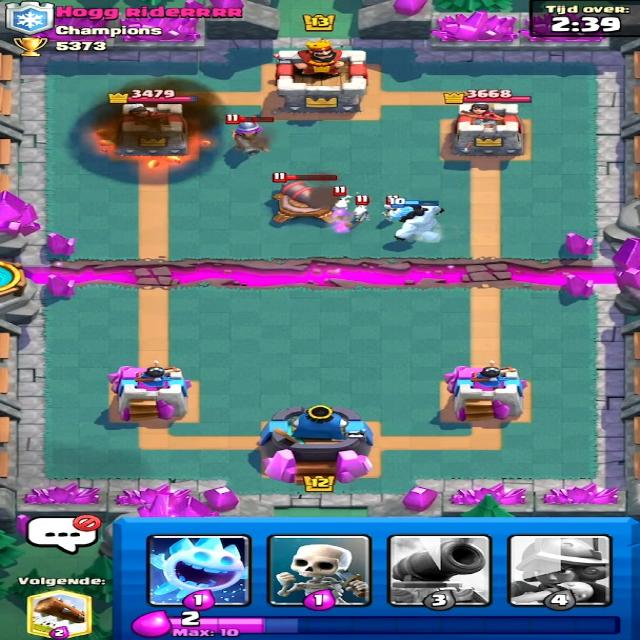Cannon_Card: (385, 532, 495, 610)
Enemy_Cannon_Troop: (262, 181, 345, 220)
Enemy_Musketeer_Troop: (224, 115, 274, 156)
Ice_Golem_Troop: (391, 198, 447, 248)
Ice_Spirit_Card: (154, 534, 250, 606)
Musketeer_Card: (509, 534, 608, 609)
Skeleton_Card: (271, 537, 369, 604)
